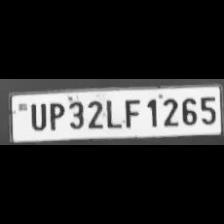1: (141, 96, 159, 128)
2: (84, 96, 104, 130), (159, 94, 179, 128)
3: (65, 98, 84, 130)
5: (197, 94, 217, 126)
6: (178, 94, 196, 125)
F: (120, 96, 142, 128)
L: (104, 96, 120, 128)
P: (46, 99, 64, 130)
U: (26, 99, 46, 130)
